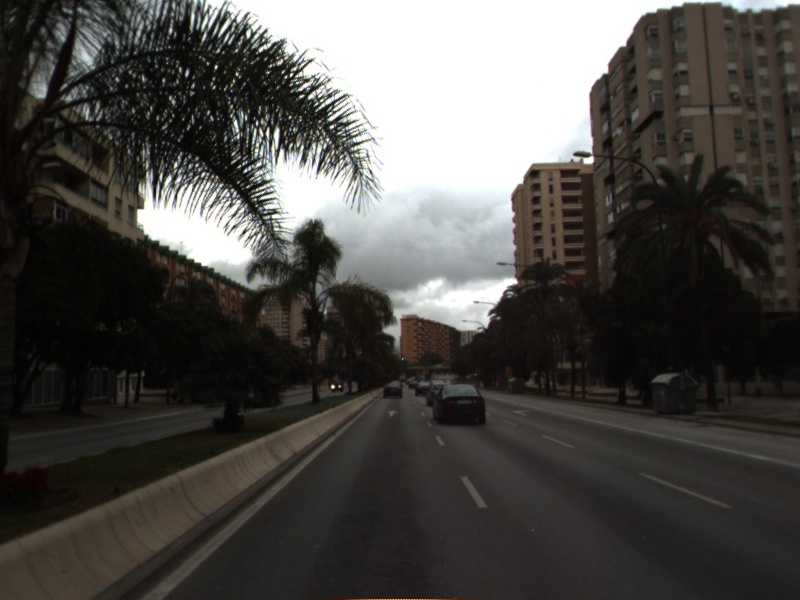RIGHT: (509, 406, 534, 419)
STRAIGHT: (383, 408, 401, 419)
